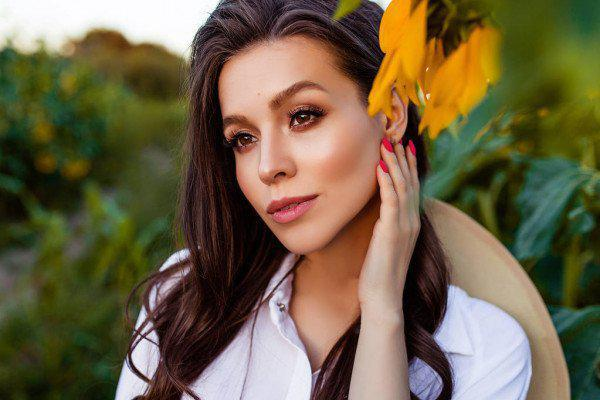Sober: (221, 56, 369, 237)
